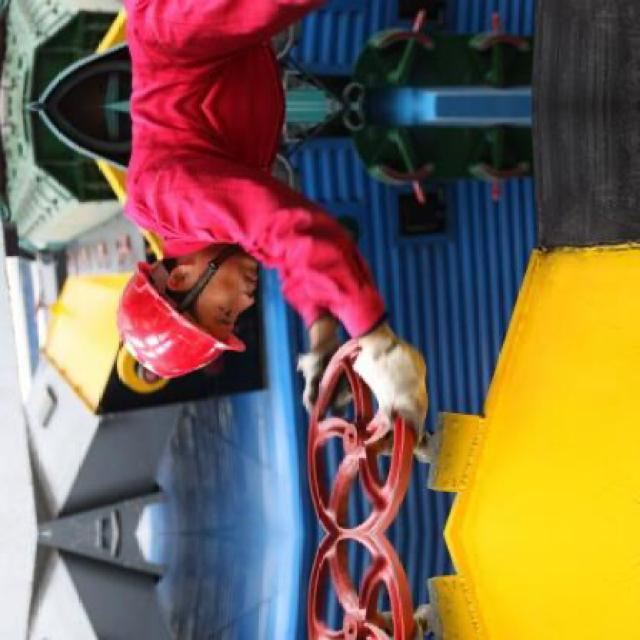con casco: (121, 173, 293, 435)
